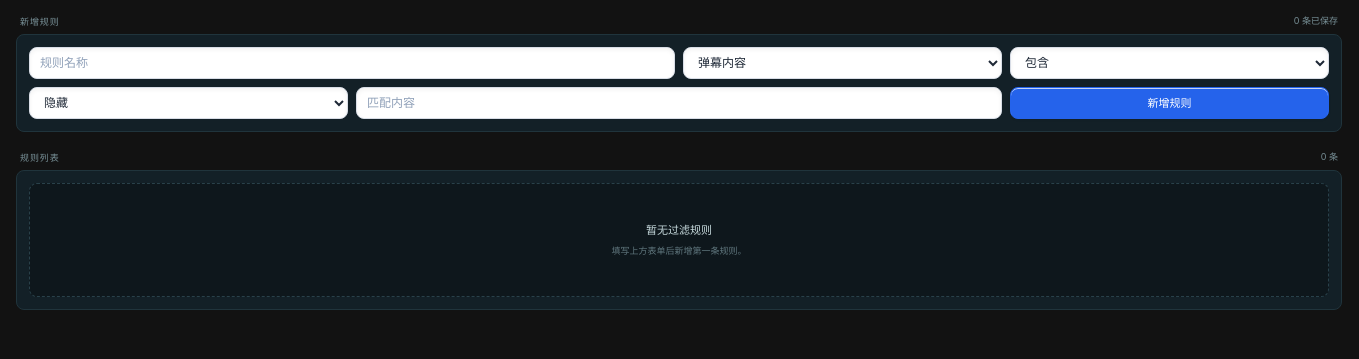
it: rejects invalid manual UID -1
Select "用户 UID" in the dropdown named "规则目标" at {"x": 842, "y": 63}, box [683,47,1002,79]
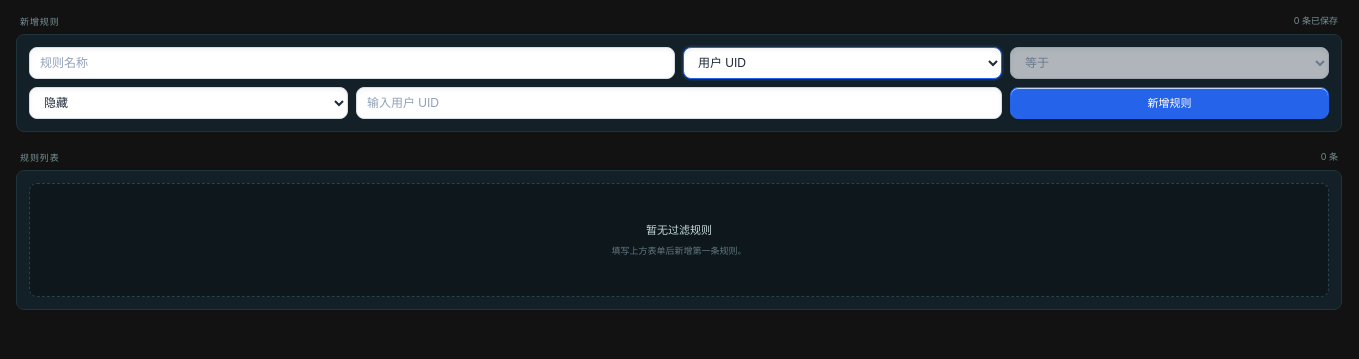
Type "-1" into the field named "规则值" at {"x": 679, "y": 103}, box [356,87,1002,119]
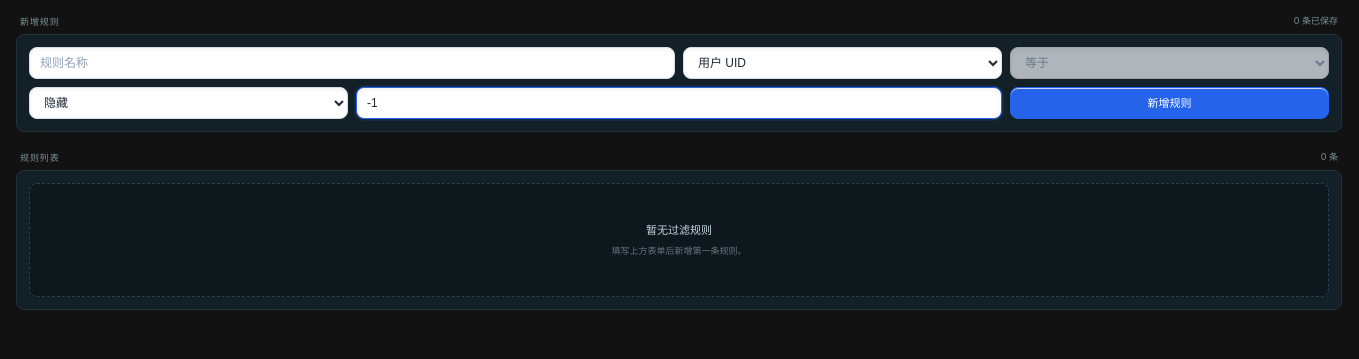
Click the button "新增规则" at {"x": 1170, "y": 103}, box [1010,87,1329,119]
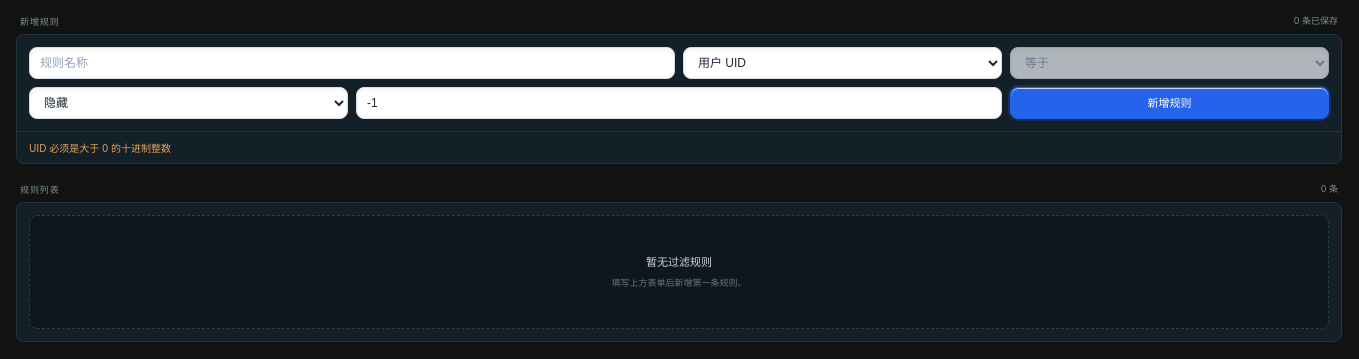
Check: the message reads "UID 必须是大于 0 的十进制整数", box [29,142,171,154]
